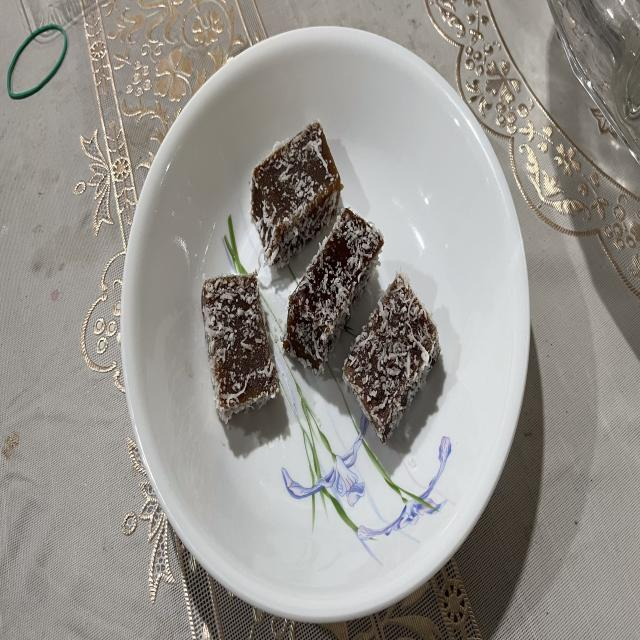kaswi: (342, 273, 440, 442), (284, 209, 384, 373), (251, 122, 341, 269), (201, 273, 279, 422)
